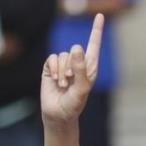up: (36, 10, 107, 118)
